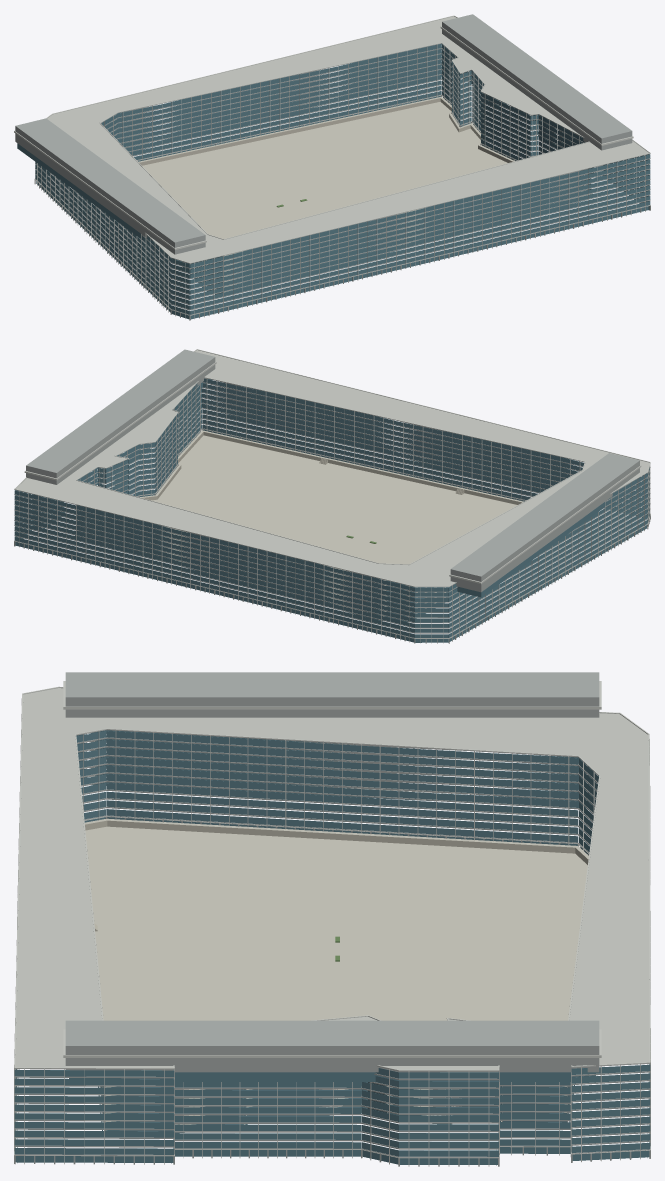
Rendered from science.far.glb.
The picture shows the model from 3 angles, top to bottom: view 1: azimuth 30°, elevation 25°; view 2: azimuth 150°, elevation 25°; view 3: azimuth 270°, elevation 25°; orthographic projection. The views are drawn at different scales.
Visible parts, largest first — view 1: glass, wall, paving, roof, trim, stone; view 2: glass, wall, paving, roof, trim, stone; view 3: paving, glass, wall, roof, trim, stone.
Part boxes in pixels (left/top/right/bottom): glass: left=17, top=43, right=650, bottom=319; wall: left=15, top=14, right=650, bottom=320; paving: left=138, top=96, right=589, bottom=292; roof: left=47, top=16, right=648, bottom=262; trim: left=14, top=15, right=650, bottom=319; stone: left=139, top=98, right=512, bottom=269; glass: left=14, top=378, right=649, bottom=642; wall: left=14, top=349, right=650, bottom=643; paving: left=140, top=430, right=523, bottom=617; roof: left=16, top=350, right=649, bottom=586; trim: left=14, top=349, right=650, bottom=643; stone: left=143, top=431, right=522, bottom=504; paving: left=84, top=818, right=588, bottom=1130; glass: left=14, top=730, right=650, bottom=1165; wall: left=14, top=672, right=650, bottom=1166; roof: left=15, top=688, right=649, bottom=1069; trim: left=14, top=681, right=650, bottom=1166; stone: left=85, top=820, right=588, bottom=1121.
Bounding box in the file's own units: 396 × 55.67 × 278.
